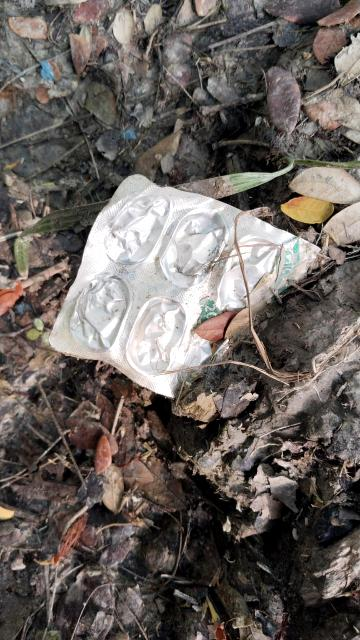medicine: (40, 160, 344, 431)
